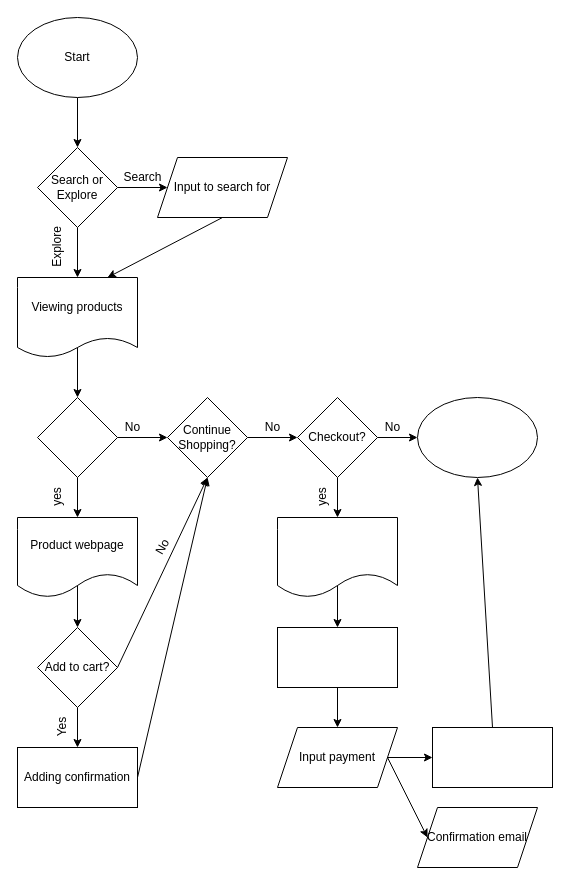
The diagram is 570 pixels wide and 885 high, and some of its shapes have lost their labels. The shapes that lost their labels are listed below. From the top down, each one's centre as x and y in pixels, then its label:
the point at 77,437: View specific product?
the point at 477,437: Leave
the point at 337,557: Users cart
the point at 337,657: Payment screen
the point at 492,757: Confirmation
